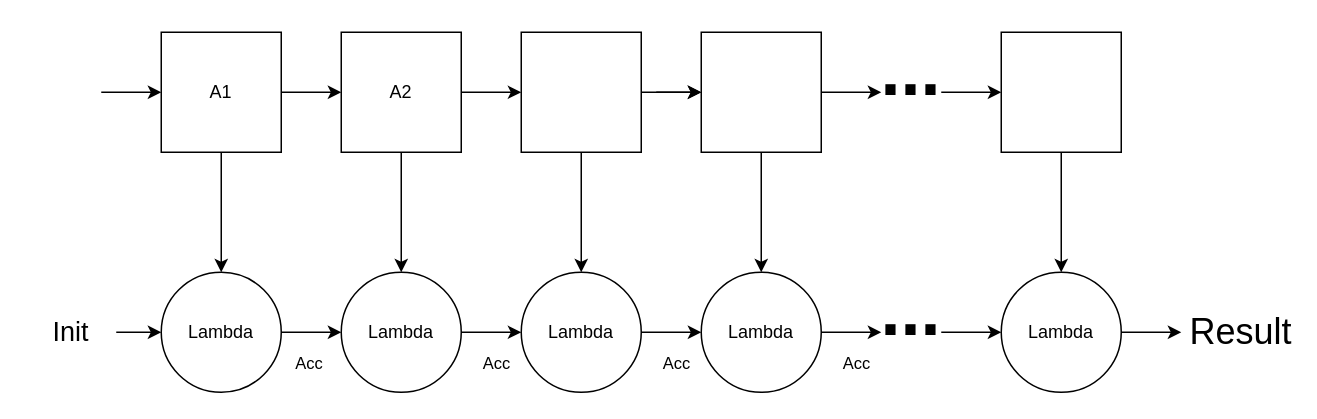
Image size: 1317x419. Some labels were removed from this diagram. The centre of each missing label's shape, as x and y in pixels:
"A3" goes at point (580, 91).
"A4" goes at point (760, 91).
"An" goes at point (1060, 91).
